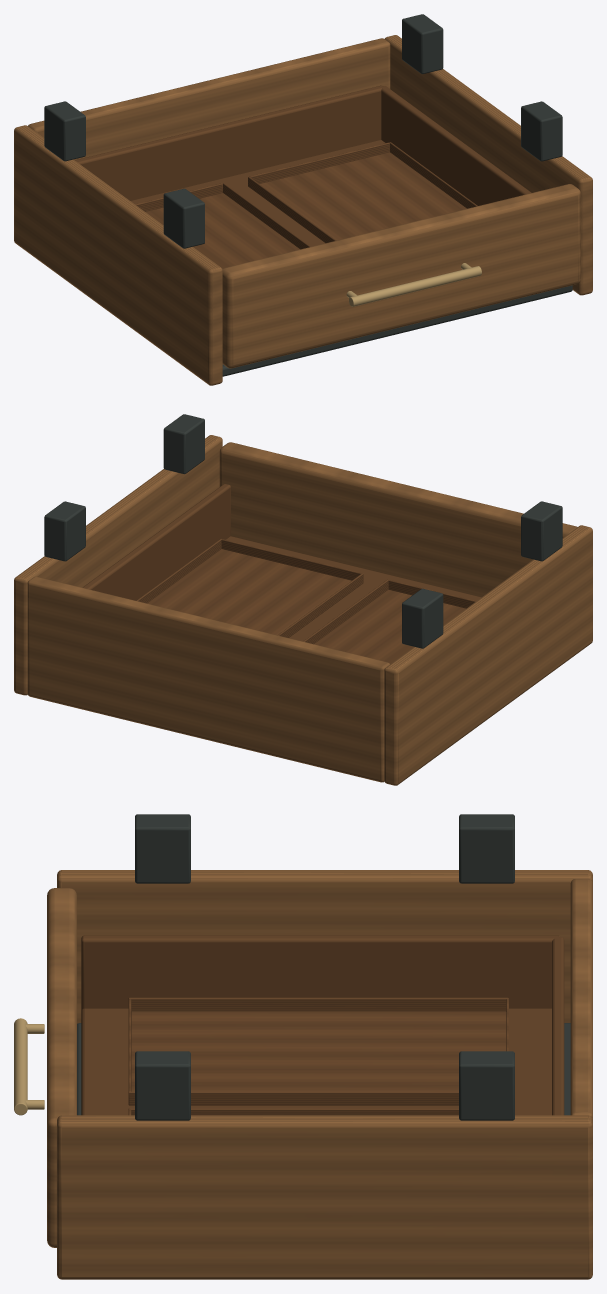
File: drawer.glb
The picture shows the model from 3 angles, top to bottom: view 1: azimuth 30°, elevation 25°; view 2: azimuth 150°, elevation 25°; view 3: azimuth 270°, elevation 25°; orthographic projection. The views are drawn at different scales.
Parts seen in each view (by area): view 1: drawer / Desk oak edge, drawer / Oiled walnut, drawer / Desk oak edge.001, drawer / Warm graphite steel, DrawerPull_web; view 2: drawer / Desk oak edge, drawer / Desk oak edge.001, drawer / Oiled walnut, drawer / Warm graphite steel; view 3: drawer / Desk oak edge, drawer / Oiled walnut, drawer / Warm graphite steel, drawer / Desk oak edge.001, DrawerPull_web.
Boxes of the visible parts, bbox=[...] form: drawer / Desk oak edge: bbox=[14, 35, 592, 385]; drawer / Oiled walnut: bbox=[75, 85, 531, 268]; drawer / Desk oak edge.001: bbox=[222, 184, 580, 368]; drawer / Warm graphite steel: bbox=[44, 14, 572, 376]; DrawerPull_web: bbox=[349, 266, 481, 306]; drawer / Desk oak edge: bbox=[14, 435, 592, 785]; drawer / Desk oak edge.001: bbox=[219, 442, 577, 597]; drawer / Oiled walnut: bbox=[82, 484, 481, 664]; drawer / Warm graphite steel: bbox=[44, 414, 562, 648]; drawer / Desk oak edge: bbox=[57, 870, 592, 1279]; drawer / Oiled walnut: bbox=[81, 935, 564, 1115]; drawer / Warm graphite steel: bbox=[77, 814, 570, 1120]; drawer / Desk oak edge.001: bbox=[47, 888, 76, 1247]; DrawerPull_web: bbox=[14, 1018, 27, 1115].
Size of the model in its own units: 0.484 by 0.19 by 0.4645.
4 materials, 2 textured.
